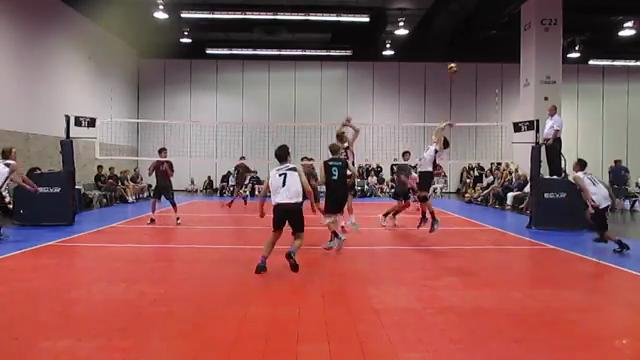Player: (255, 144, 312, 273), (573, 158, 629, 253), (320, 143, 354, 250), (148, 147, 180, 224), (380, 150, 411, 226), (0, 147, 37, 208), (0, 148, 37, 193), (226, 156, 251, 207), (300, 157, 320, 209), (342, 171, 357, 230)
Set: (406, 115, 455, 239)
ball: (448, 62, 458, 76)
